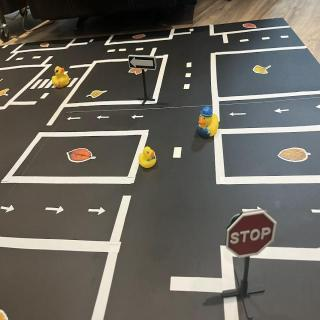duck_regular: (139, 146, 157, 172)
duck_specialty: (197, 106, 221, 142), (51, 66, 70, 89)
road_crosswalk: (29, 77, 81, 90)
road_oneway: (45, 204, 65, 218), (242, 206, 270, 216), (88, 206, 108, 218), (1, 204, 17, 216), (275, 107, 293, 116), (230, 112, 250, 119), (68, 115, 84, 123), (132, 114, 146, 122), (97, 115, 112, 121), (315, 101, 320, 115)
sign_oneway_left: (129, 55, 159, 73)
sign_stop: (227, 212, 278, 258)
